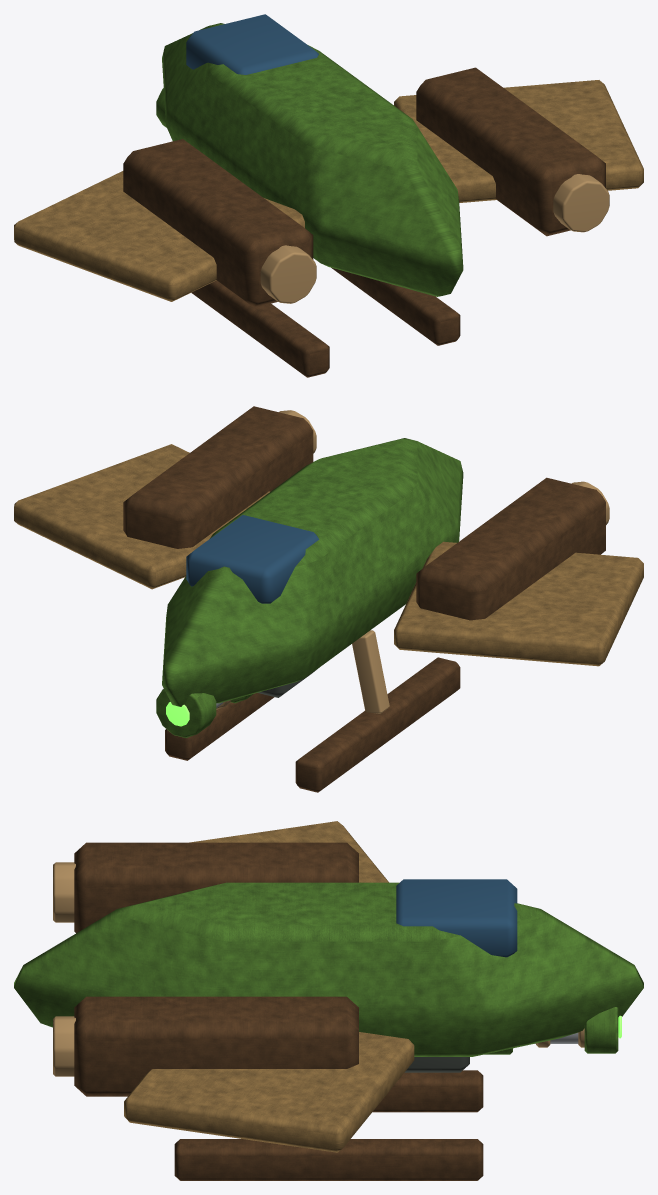
File: vael_milan.gltf
3 views of the same model, one above another, from view 1: azimuth 30°, elevation 25°; view 2: azimuth 150°, elevation 25°; view 3: azimuth 270°, elevation 25° (orthographic). The views are drawn at different scales.
Parts seen in each view (by area): view 1: Root.034_Geometry; view 2: Root.034_Geometry, GunRecoil.011_Geometry; view 3: Root.034_Geometry, GunRecoil.011_Geometry, GunPitch.015_Geometry.
Part boxes in pixels (left/top/right/bottom): Root.034_Geometry: left=14, top=14, right=643, bottom=377; Root.034_Geometry: left=14, top=406, right=643, bottom=792; GunRecoil.011_Geometry: left=156, top=689, right=253, bottom=737; Root.034_Geometry: left=14, top=821, right=643, bottom=1180; GunRecoil.011_Geometry: left=484, top=1007, right=621, bottom=1054; GunPitch.015_Geometry: left=404, top=1057, right=469, bottom=1072.
Bounding box in the file's own units: 3.08 × 1.13 × 2.64.
Materials: 8 (3 with a texture image).
